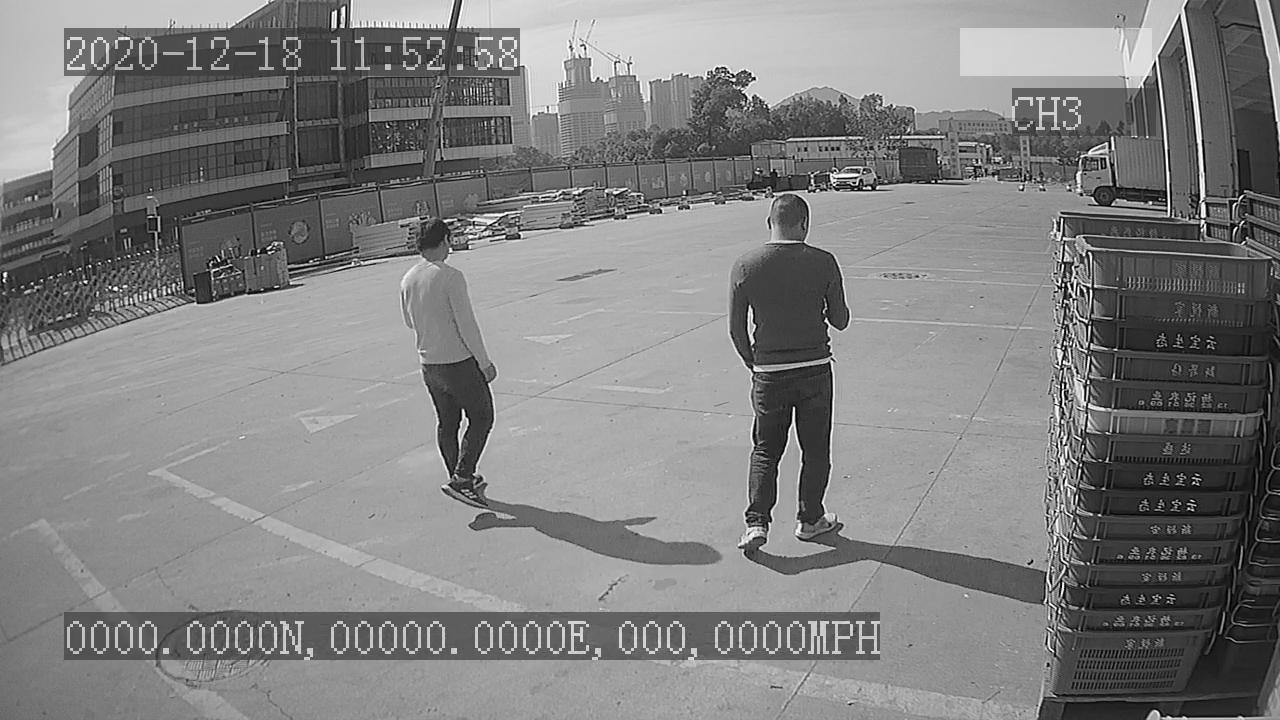person: (713, 186, 859, 556), (388, 210, 511, 519)
